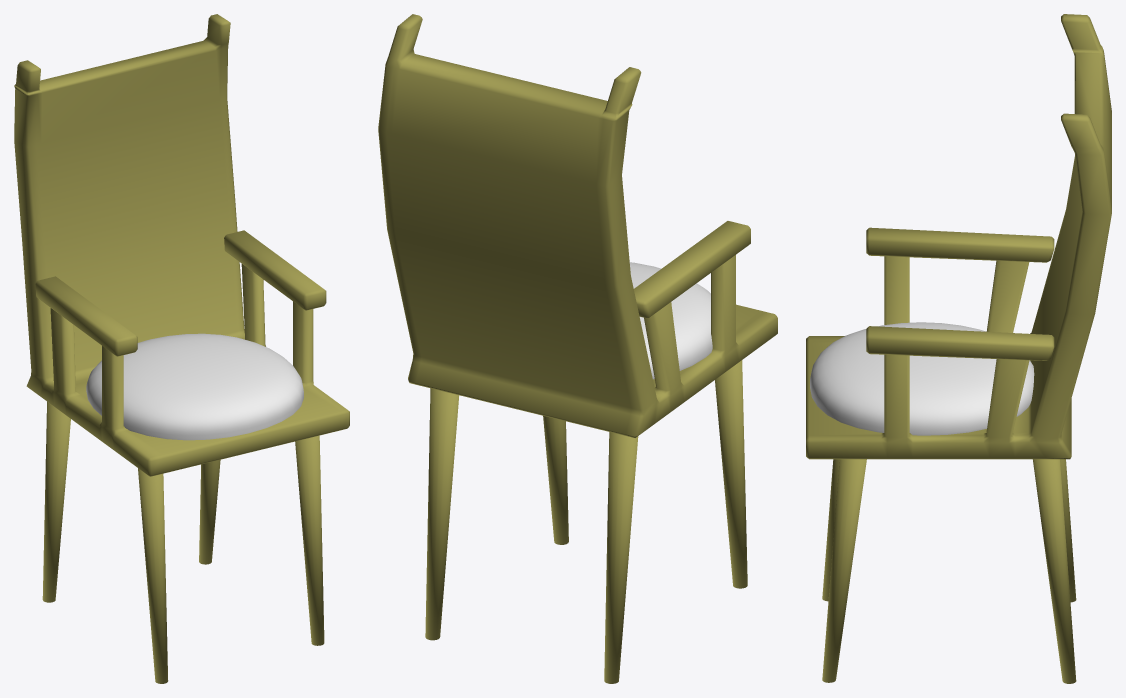
Rendered from krzesło2.fbx.
3 views of the same model, side by side, from view 1: azimuth 30°, elevation 25°; view 2: azimuth 150°, elevation 25°; view 3: azimuth 270°, elevation 25° (orthographic). The views are drawn at different scales.
Visible parts, largest first — view 1: krzesłen; view 2: krzesłen; view 3: krzesłen.
Boxes of the visible parts, <box> form: krzesłen: <box>14,14,349,683</box>; krzesłen: <box>378,14,777,683</box>; krzesłen: <box>806,14,1111,683</box>.
Size of the model in its own units: 83.43 by 197 by 95.18.
